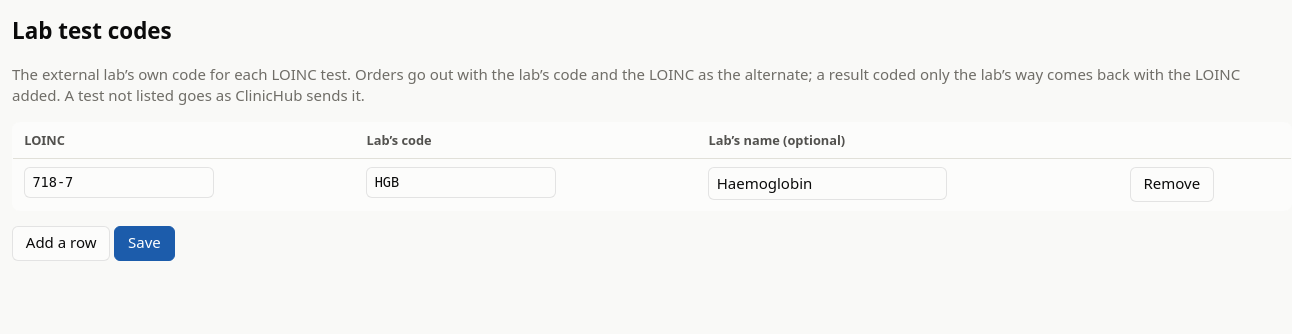
Test: CodeMap › shows the map and saves the whole of it, with a new row, trimmed
Check: the field showing "HGB" is shown, box x1=366 y1=167 x2=556 y2=198
Click the button "Add a row".
click(61, 243)  # box x1=12 y1=226 x2=110 y2=261
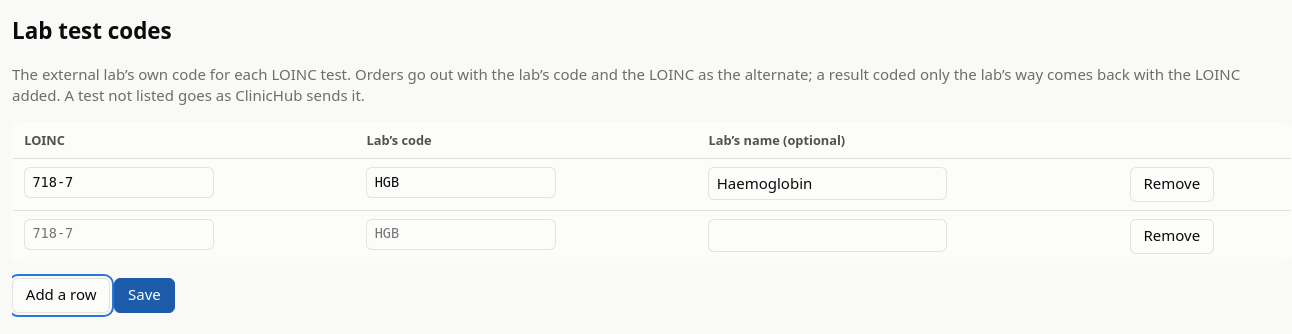
Type " 2345-7 " into the field named "LOINC, row 2".
click(119, 234); type(" 2345-7 ")  # box x1=24 y1=219 x2=214 y2=250
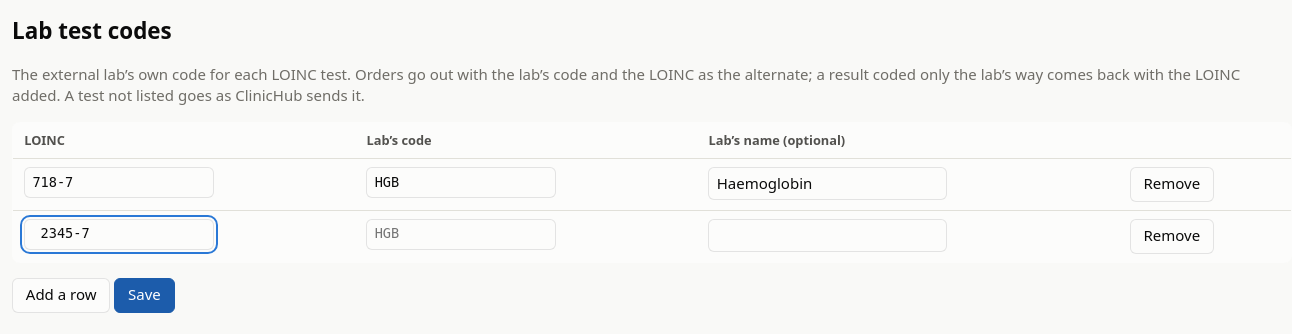
Type "GLU" into the field named "Lab’s code, row 2".
click(461, 234); type("GLU")  # box x1=366 y1=219 x2=556 y2=250
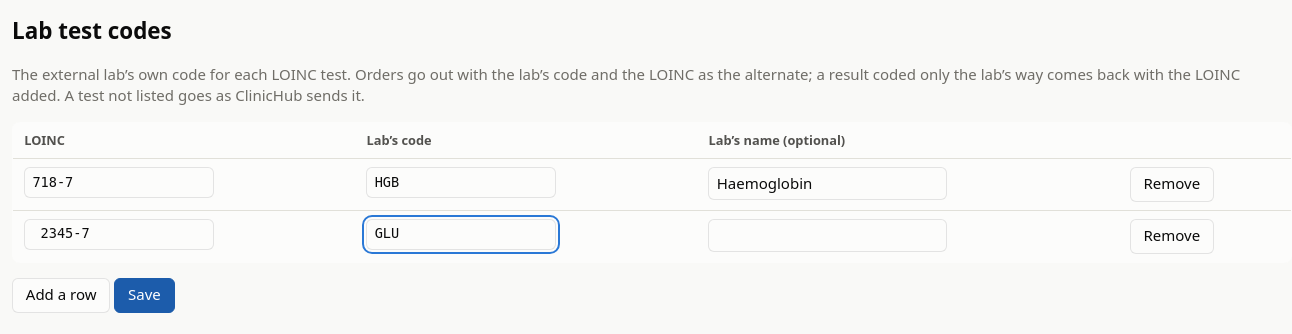
Click the button "Save".
click(144, 295)  # box x1=114 y1=278 x2=174 y2=312
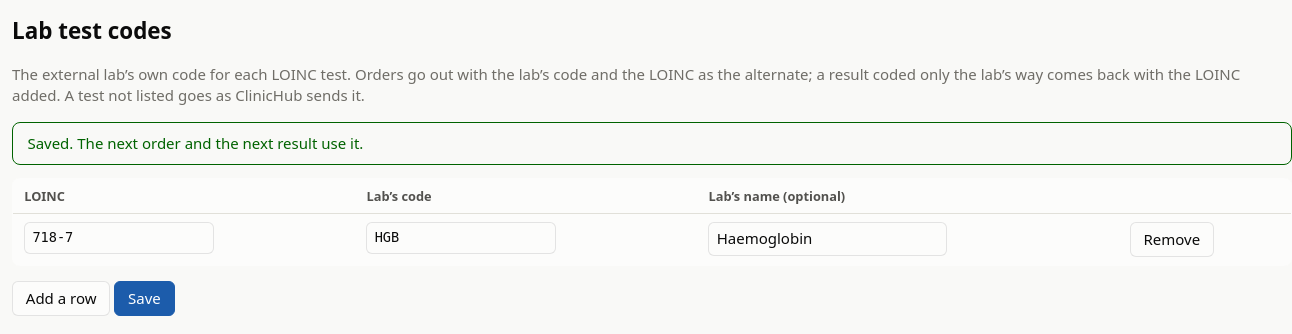
Check: the message shows "Saved", box x1=27 y1=133 x2=363 y2=153
